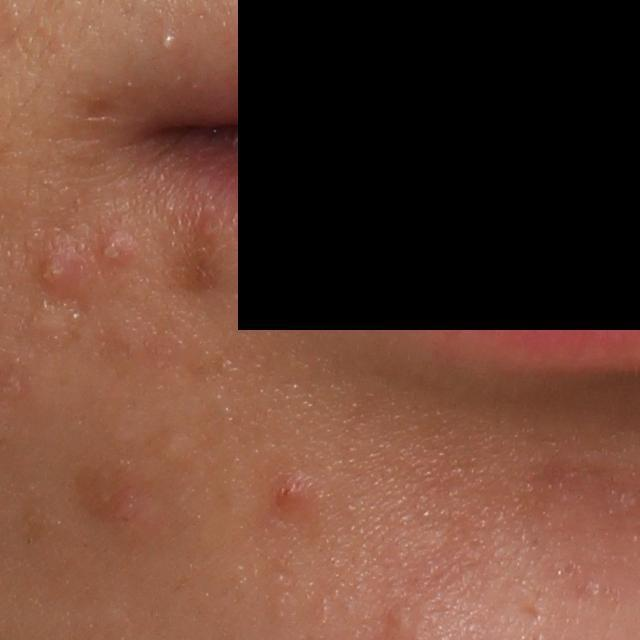hypertrophic_scar: (30, 302, 79, 346)
papule: (93, 487, 148, 528), (265, 473, 308, 518), (100, 234, 131, 267)
pustule: (160, 31, 179, 55)
